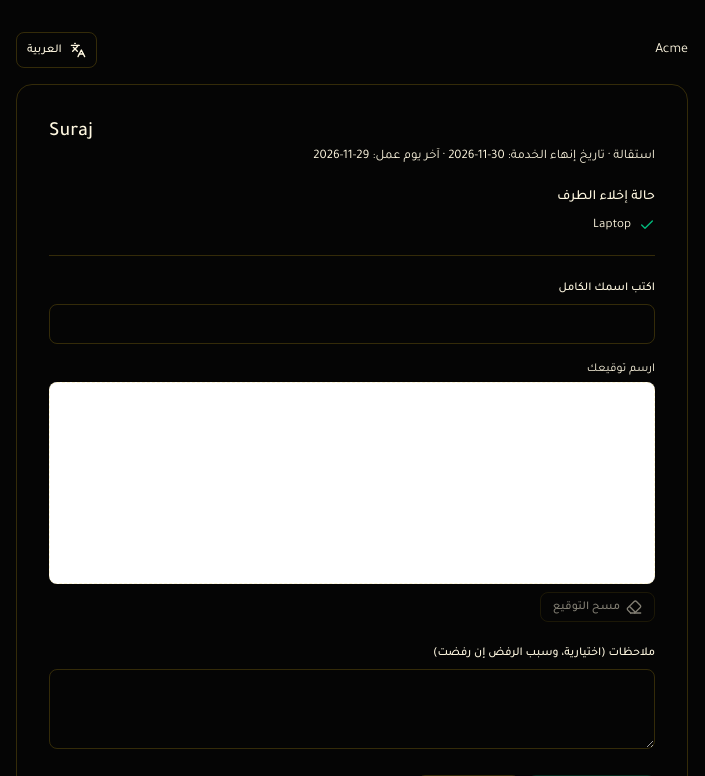
Test: PublicExitSign › declines with the reason as notes
Check: the heading "Suraj" is shown, box [49,122,93,142]
Type "The amount is wrong" into the text box labelled "ملاحظات (اختيارية، وسبب الرفض إن رفضت)".
click(352, 709); type("The amount is wrong")  # box [49,669,655,749]
(page scrolled)
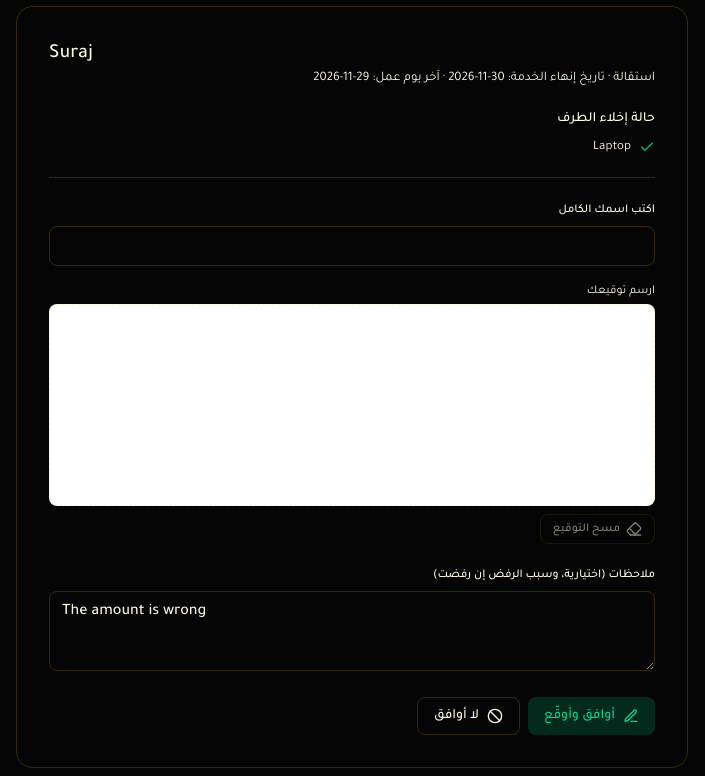
Click the button "لا أوافق".
click(468, 716)  # box [417,697,520,735]
(page scrolled)
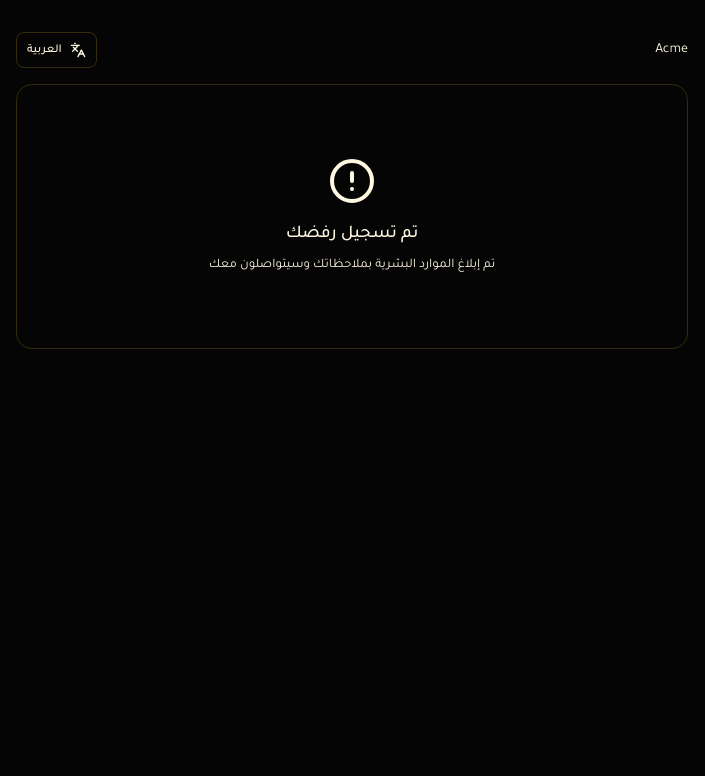
Check: the heading "تم تسجيل رفضك" is shown, box [286,225,418,243]
